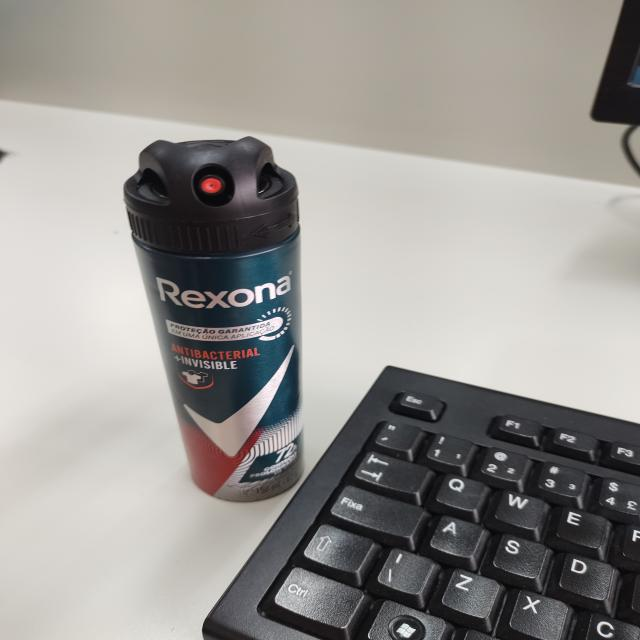Desodorante Azul: (124, 137, 302, 501)
